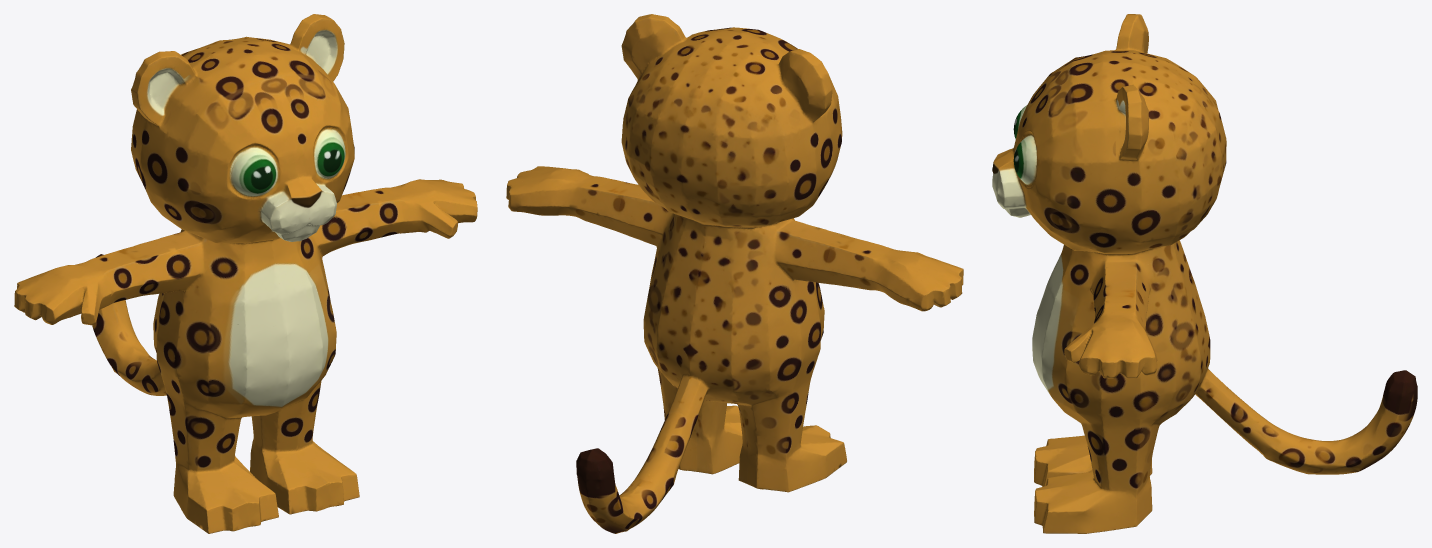
File: leopard.glb
3 views of the same model, side by side, from view 1: azimuth 30°, elevation 25°; view 2: azimuth 150°, elevation 25°; view 3: azimuth 270°, elevation 25° (orthographic).
Bounding box in the file's own units: 1.9 × 1.84 × 1.58.
1 material, 1 textured.
